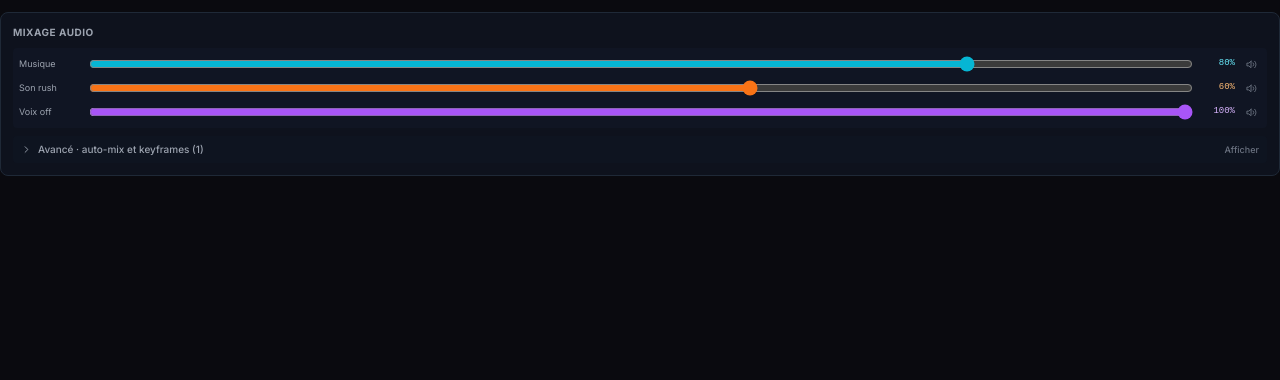
Mixer épuré — ce qui est replié › ouvrir « Avancé » révèle l auto-mix, sans l avoir supprimé
Click the text "Avancé · auto-mix et keyframes (1)". click: (112, 150)
box: [21,142,204,157]
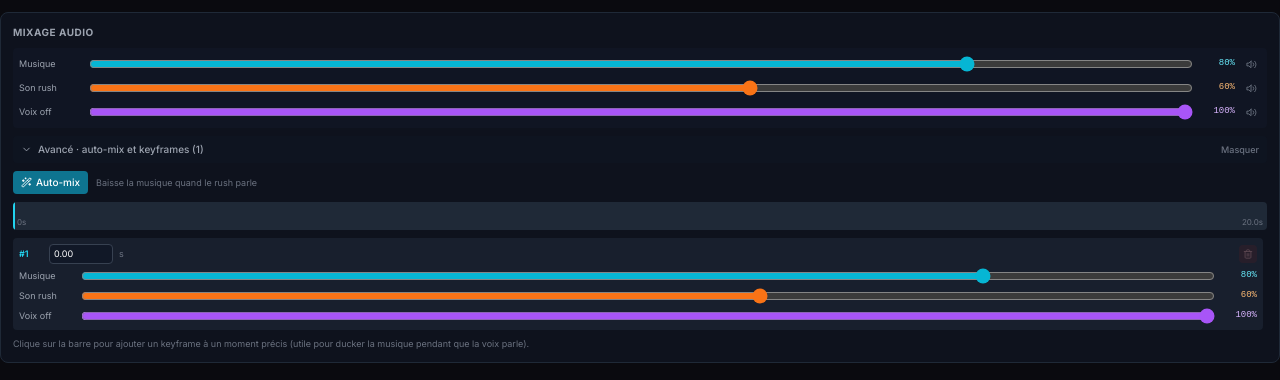
Now the button "Auto-mix" is shown, box [13,171,88,194]
